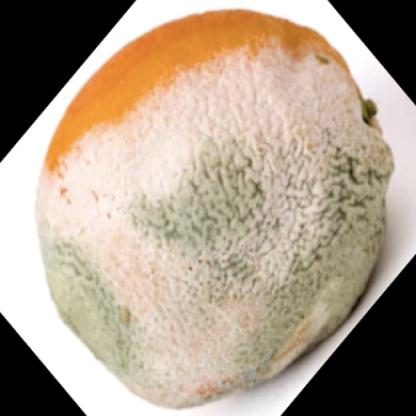rotten: (34, 9, 390, 407)
